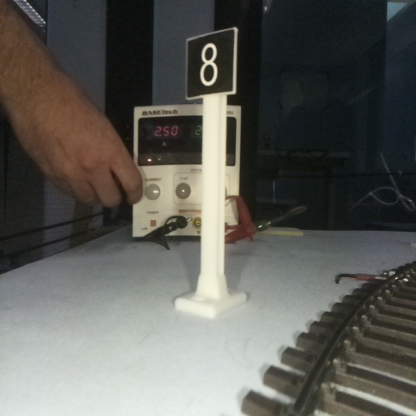black-info-8: (188, 30, 234, 311)
